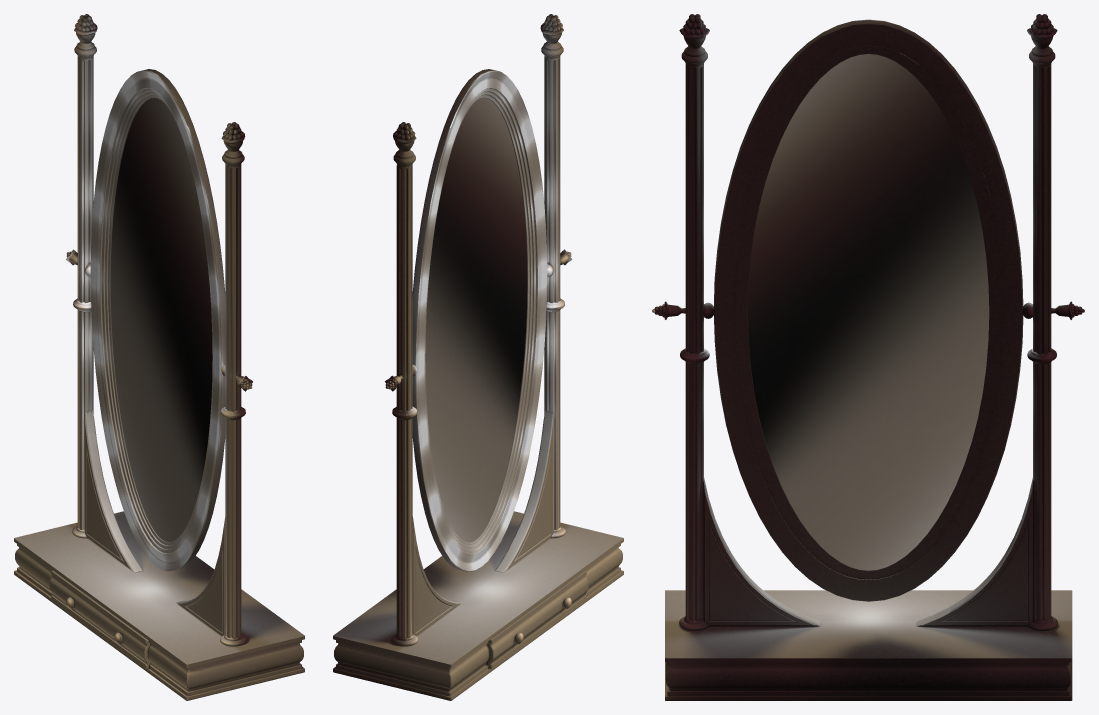
File: dressingmirror.obj
The picture shows the model from 3 angles, left to right: view 1: azimuth 30°, elevation 25°; view 2: azimuth 150°, elevation 25°; view 3: azimuth 270°, elevation 25°; orthographic projection. The views are drawn at different scales.
Parts seen in each view (by area): view 1: dressingMirrorBaked BedroomBakedTriExport; view 2: dressingMirrorBaked BedroomBakedTriExport; view 3: dressingMirrorBaked BedroomBakedTriExport.
Boxes of the visible parts, bbox=[...] form: dressingMirrorBaked BedroomBakedTriExport: bbox=[14, 14, 304, 700]; dressingMirrorBaked BedroomBakedTriExport: bbox=[333, 14, 623, 700]; dressingMirrorBaked BedroomBakedTriExport: bbox=[652, 14, 1084, 700].
Bounding box in the file's own units: 0.35 × 1.45 × 0.8747.
